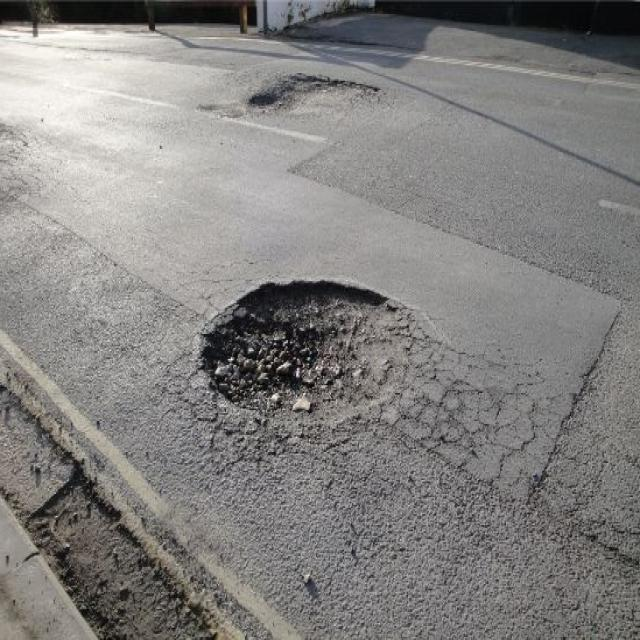Pothole: (21, 454, 217, 639), (199, 275, 439, 421), (247, 64, 386, 115)
